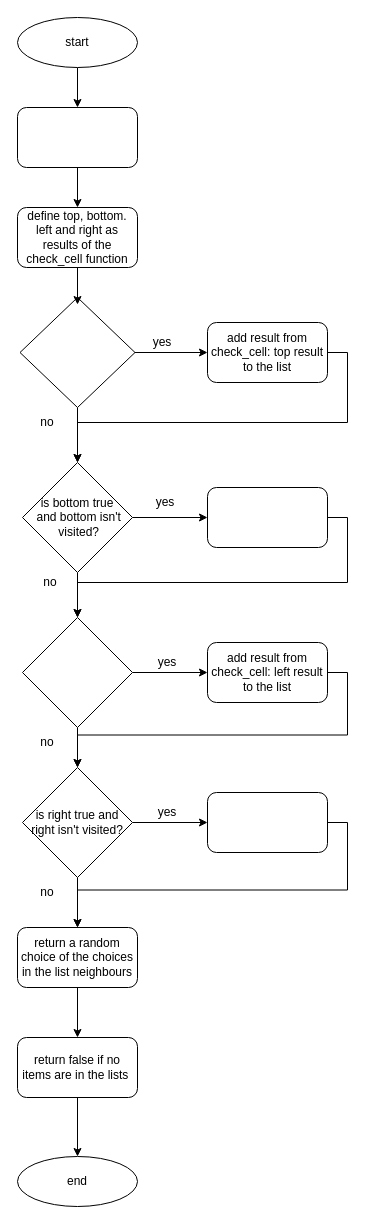
The diagram is 373 pixels wide and 1224 high, and some of its shapes have lost their labels. Each missing label, with the centre of its shape:
add result from check_cell: bottom result to the list: [267,517]
add result from check_cell: right result to the list: [267,822]
define the list "neighbours": [77,137]
is left true and left isn't visited?: [77,672]
is top true and top isnt visited?: [77,352]
